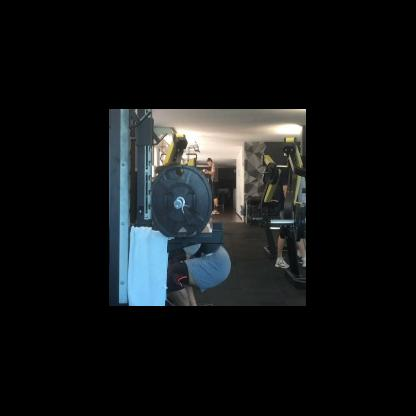barbell: (152, 165, 213, 238)
